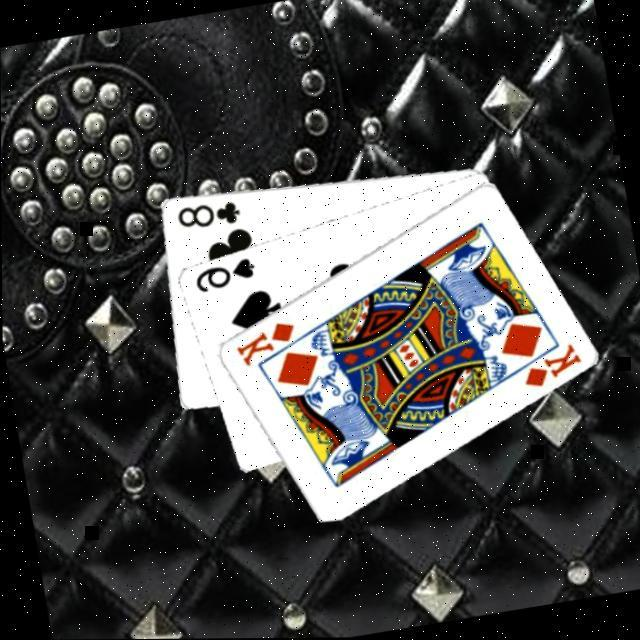6S: (190, 251, 260, 294)
8C: (172, 194, 244, 234)
KD: (230, 315, 302, 369), (515, 338, 587, 390)
